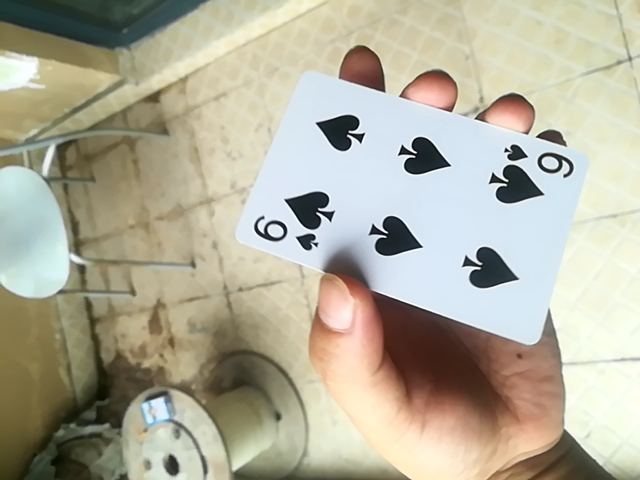ht 6: (227, 67, 593, 357)
